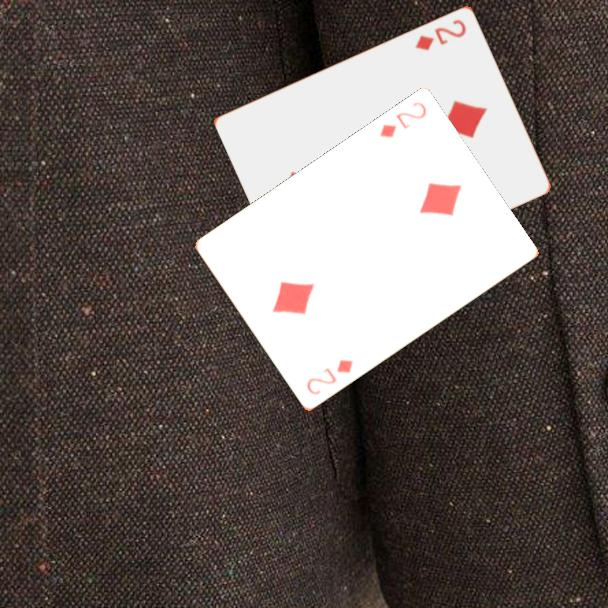d02: (303, 356, 356, 399), (376, 99, 429, 141), (412, 15, 469, 53)
